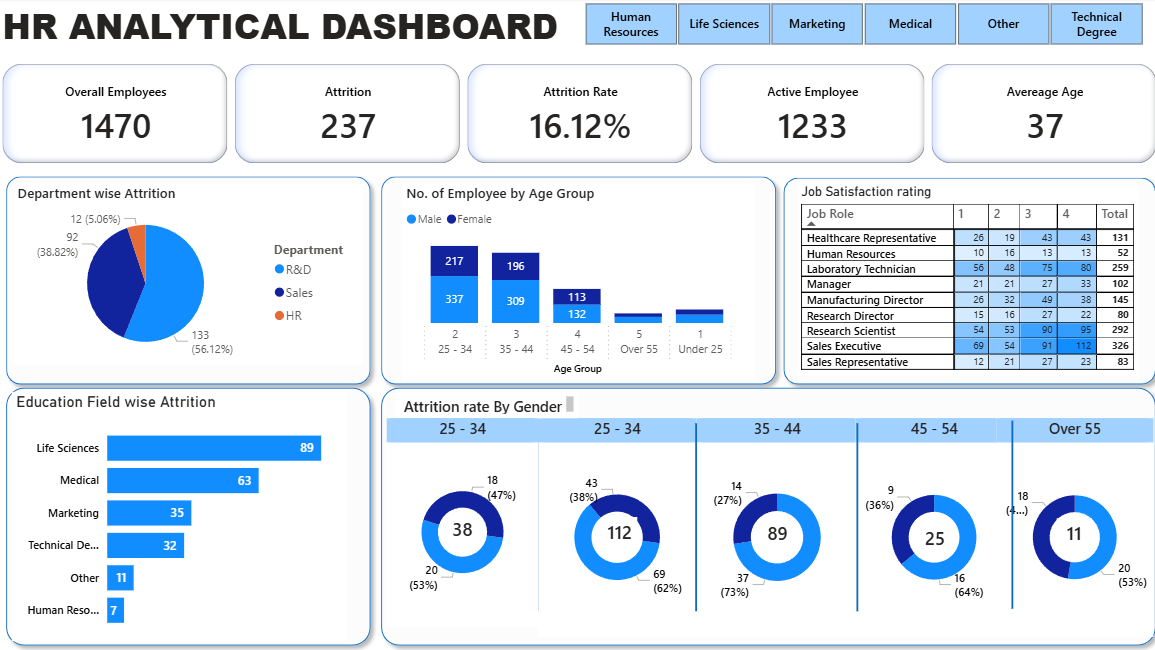

Layout of this report page (visuals, bound fields, positions):
{"tool":"powerbi","page":{"name":"Page 1","canvas":[1280,720],"ordinal":0},"visuals":[{"type":"cardVisual","fields":{"Data":["Sum(HR Data xlsx - HR data.Employee Count)","Sum(HR Data xlsx - HR data.Attrition Count)","HR Data xlsx - HR data.Attrition rate","HR Data xlsx - HR data.Active Employee","HR Data xlsx - HR data.Average age"]},"box":[0,68.4,1280,119.4],"z":0},{"type":"shape","box":[0,187.8,418,246.3],"z":1000},{"type":"pieChart","title":"Department wise Attrition","fields":{"Category":["HR Data xlsx - HR data.Department"],"Y":["Sum(HR Data xlsx - HR data.Attrition Count)"]},"box":[16.2,204,384.4,200.3],"z":2000},{"type":"shape","box":[411.8,187.8,451.6,246.3],"z":3000},{"type":"shape","box":[853.4,189.1,426.7,245.1],"z":4000},{"type":"columnChart","title":"No. of Employee by Age Group","fields":{"Category":["HR Data xlsx - HR data.CF_age band","HR Data xlsx - HR data.Age Band Number"],"Series":["HR Data xlsx - HR data.Gender"],"Y":["Sum(HR Data xlsx - HR data.Employee Count)"]},"box":[442.8,204,386.9,215.2],"z":5000},{"type":"pivotTable","title":"Job Satisfaction rating ","fields":{"Rows":["HR Data xlsx - HR data.Job Role"],"Columns":["HR Data xlsx - HR data.Job Satisfaction"],"Values":["Sum(HR Data xlsx - HR data.Employee Count)"]},"box":[877,204,375.7,215.2],"z":6000},{"type":"shape","box":[0,419.2,418,301],"z":7000},{"type":"clusteredBarChart","title":"Education Field wise Attrition","fields":{"Category":["HR Data xlsx - HR data.Education Field"],"Y":["Sum(HR Data xlsx - HR data.Attrition Count)"]},"box":[14.9,434.1,368.2,273.7],"z":8000},{"type":"shape","box":[411.8,419.2,868.3,301],"z":9000},{"type":"card","title":"Under 25","fields":{"Values":["Sum(HR Data xlsx - HR data.Attrition Count)"]},"box":[491.4,568.5,32.3,36.1],"z":10000},{"type":"donutChart","title":"25 - 34","fields":{"Y":["Sum(HR Data xlsx - HR data.Attrition Count)"],"Category":["HR Data xlsx - HR data.Gender"],"Series":["HR Data xlsx - HR data.CF_age band"]},"box":[593.4,462.8,174.2,240.1],"z":11000},{"type":"donutChart","title":"35 - 44","fields":{"Y":["Sum(HR Data xlsx - HR data.Attrition Count)"],"Category":["HR Data xlsx - HR data.Gender"],"Series":["HR Data xlsx - HR data.CF_age band"]},"box":[767.5,462.8,176.6,240.1],"z":12000},{"type":"donutChart","title":"45 - 54","fields":{"Y":["Sum(HR Data xlsx - HR data.Attrition Count)"],"Category":["HR Data xlsx - HR data.Gender"],"Series":["HR Data xlsx - HR data.CF_age band"]},"box":[941.7,462.8,172.9,240.1],"z":13000},{"type":"donutChart","title":"Over 55","fields":{"Y":["Sum(HR Data xlsx - HR data.Attrition Count)"],"Category":["HR Data xlsx - HR data.Gender"],"Series":["HR Data xlsx - HR data.CF_age band"]},"box":[1095.9,462.8,171.7,240.1],"z":14000},{"type":"shape","box":[566,465.2,53.5,209],"z":15000},{"type":"shape","box":[740.2,467.7,53.5,206.5],"z":16000},{"type":"shape","box":[916.8,467.7,53.5,206.5],"z":17000},{"type":"shape","box":[1087.2,465.2,53.5,206.5],"z":18000},{"type":"textbox","box":[435.4,434.1,201.5,28.6],"z":19000},{"type":"donutChart","title":"25 - 34","fields":{"Y":["Sum(HR Data xlsx - HR data.Attrition Count)"],"Category":["HR Data xlsx - HR data.Gender"],"Series":["HR Data xlsx - HR data.CF_age band"]},"box":[426.7,462.8,166.7,228.9],"z":20000},{"type":"card","title":"Under 25","fields":{"Values":["Sum(HR Data xlsx - HR data.Attrition Count)"]},"box":[664.3,571,37.3,36.1],"z":21000},{"type":"card","title":"Under 25","fields":{"Values":["Sum(HR Data xlsx - HR data.Attrition Count)"]},"box":[839.7,572.2,32.3,36.1],"z":22000},{"type":"card","title":"Under 25","fields":{"Values":["Sum(HR Data xlsx - HR data.Attrition Count)"]},"box":[1012.6,577.2,32.3,36.1],"z":23000},{"type":"card","title":"Under 25","fields":{"Values":["Sum(HR Data xlsx - HR data.Attrition Count)"]},"box":[1161.9,572.2,38.6,36.1],"z":24000},{"type":"card","title":"Under 25","fields":{"Values":["Sum(HR Data xlsx - HR data.Attrition Count)"]},"box":[492.6,568.5,34.8,36.1],"z":25000},{"type":"textbox","box":[0,0,636.9,68.4],"z":26000},{"type":"slicer","fields":{"Values":["HR Data xlsx - HR data.Education Field"]},"box":[618.9,0,661.4,59],"z":27000}]}

Visuals, with their boxes in screenshot pixels (x1, y1, x2, y2), scaled from the page's 1280x720 canvas onto the 1155x650 screenshot:
cardVisual - Sum(HR Data xlsx - HR data.Employee Count) x Sum(HR Data xlsx - HR data.Attrition Count): box=[0, 62, 1154, 170]
shape: box=[0, 170, 377, 392]
"Department wise Attrition" pieChart: box=[15, 184, 361, 365]
shape: box=[372, 170, 779, 392]
shape: box=[770, 171, 1154, 392]
"No. of Employee by Age Group" columnChart: box=[400, 184, 749, 378]
"Job Satisfaction rating " pivotTable: box=[791, 184, 1130, 378]
shape: box=[0, 378, 377, 649]
"Education Field wise Attrition" clusteredBarChart: box=[13, 392, 346, 639]
shape: box=[372, 378, 1154, 649]
"Under 25" card: box=[443, 513, 473, 546]
"25 - 34" donutChart: box=[535, 418, 693, 635]
"35 - 44" donutChart: box=[693, 418, 852, 635]
"45 - 54" donutChart: box=[850, 418, 1006, 635]
"Over 55" donutChart: box=[989, 418, 1144, 635]
shape: box=[511, 420, 559, 609]
shape: box=[668, 422, 716, 609]
shape: box=[827, 422, 876, 609]
shape: box=[981, 420, 1029, 606]
textbox: box=[393, 392, 575, 418]
"25 - 34" donutChart: box=[385, 418, 535, 624]
"Under 25" card: box=[599, 515, 633, 548]
"Under 25" card: box=[758, 517, 787, 549]
"Under 25" card: box=[914, 521, 943, 554]
"Under 25" card: box=[1048, 517, 1083, 549]
"Under 25" card: box=[444, 513, 476, 546]
textbox: box=[0, 0, 575, 62]
slicer - HR Data xlsx - HR data.Education Field: box=[558, 0, 1154, 53]
